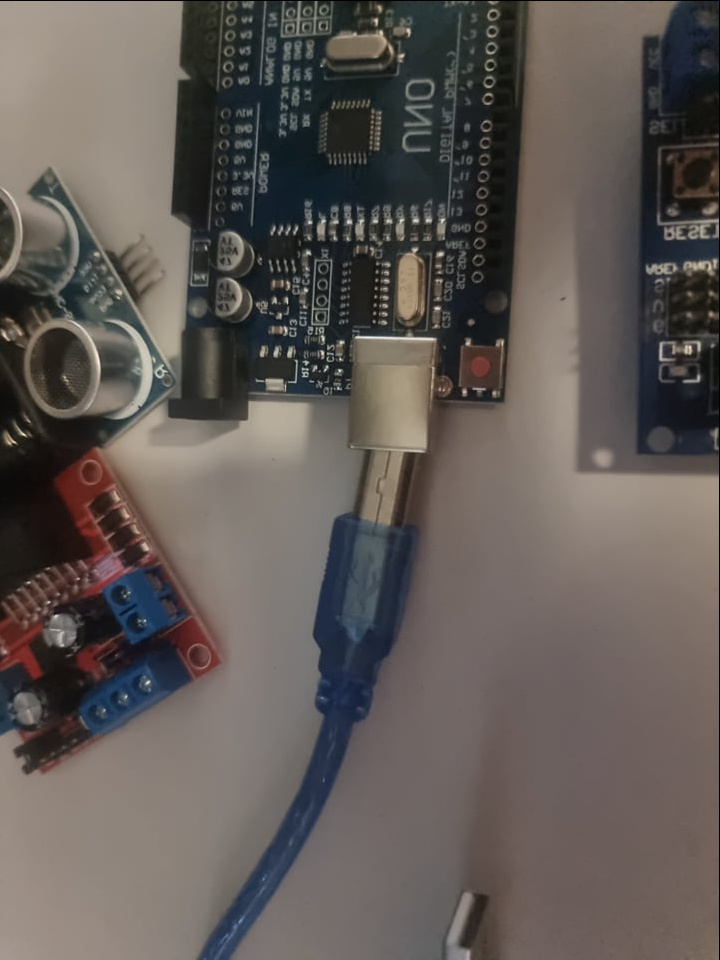5V EXPANSION: (638, 0, 720, 464)
MOTOR: (1, 447, 222, 787)
SENSOR: (1, 165, 172, 444)
UNO R3: (169, 0, 544, 452)
